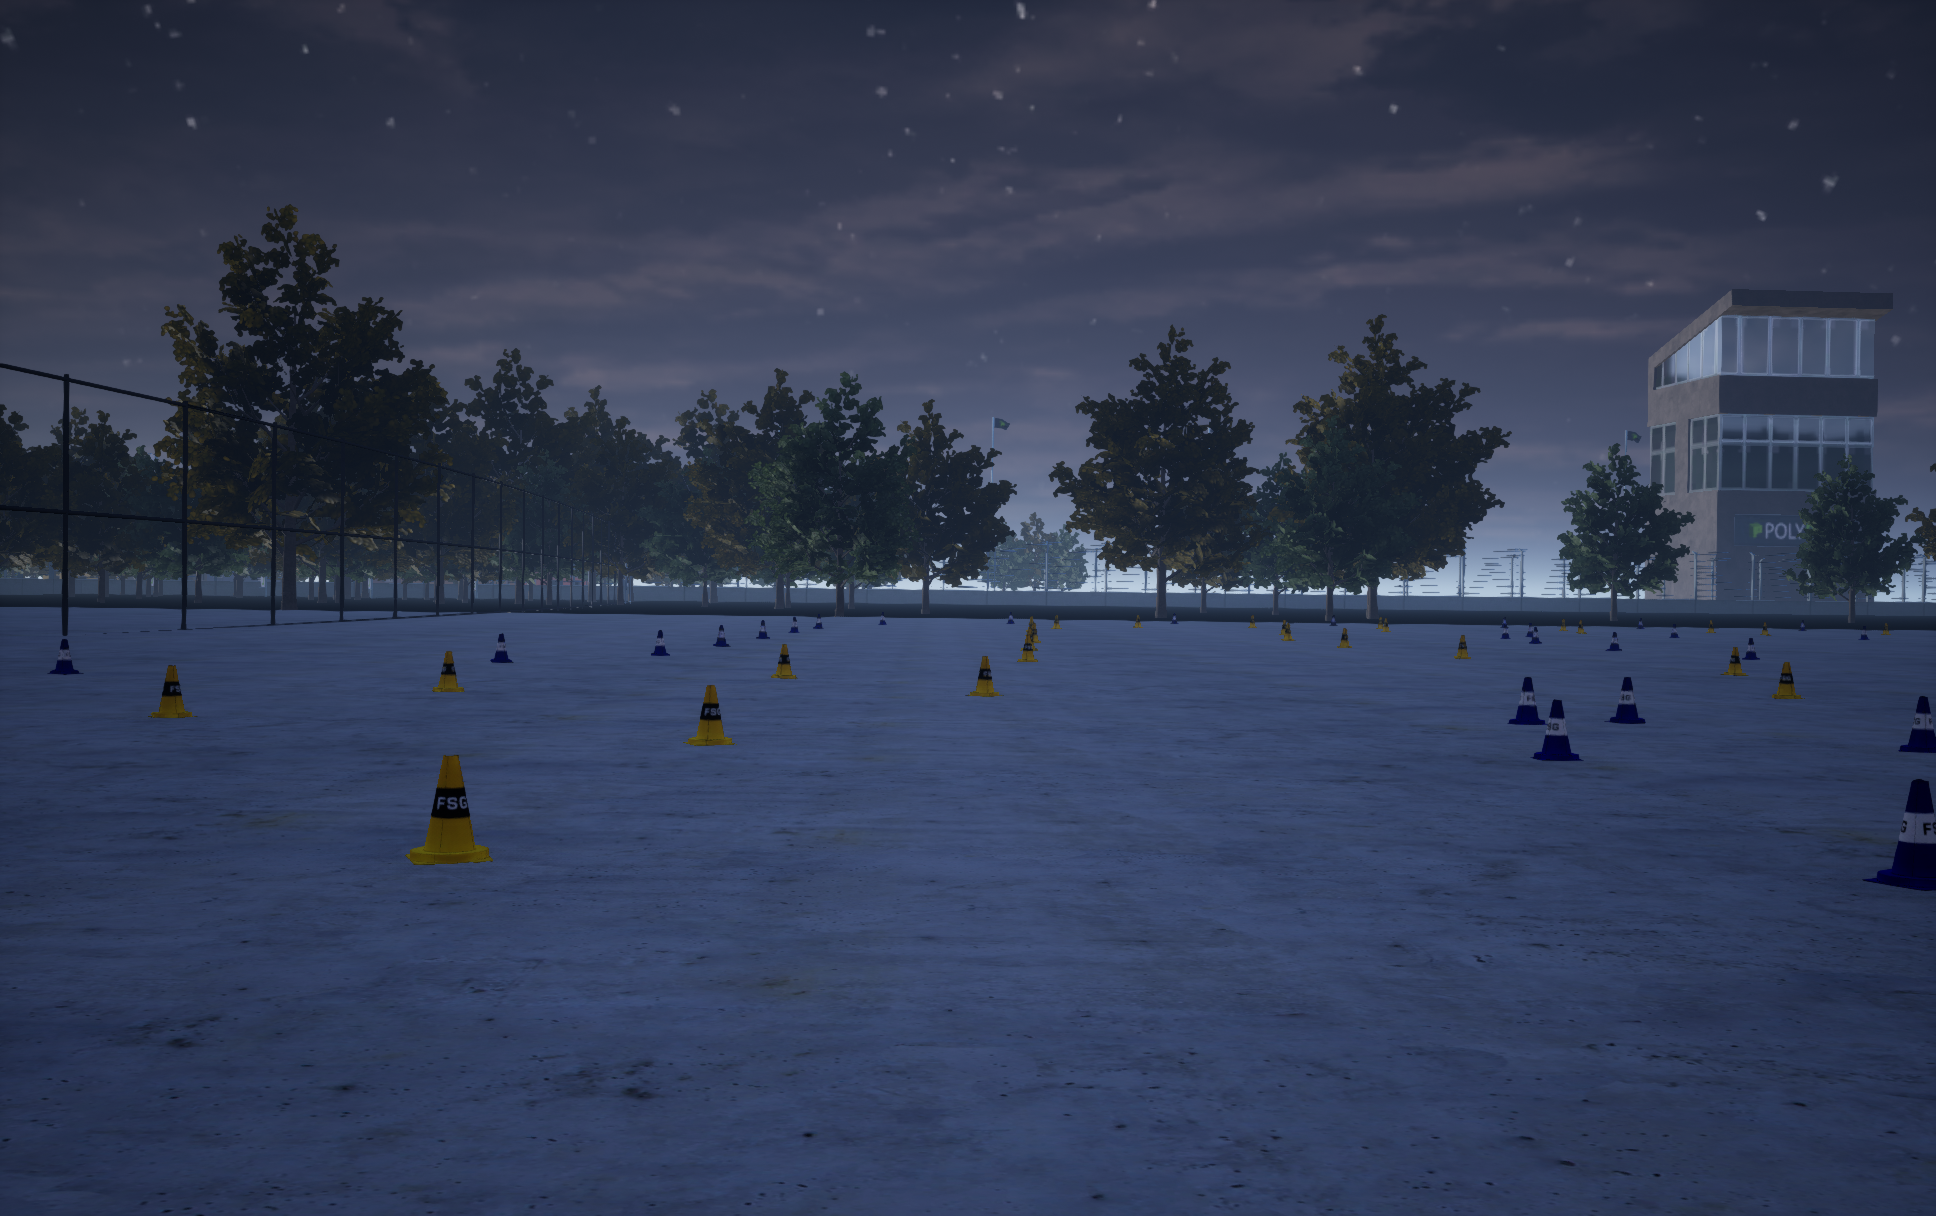blue: (405, 755, 492, 864), (684, 685, 735, 745), (148, 665, 198, 717), (965, 656, 1003, 696), (431, 651, 464, 691), (1772, 663, 1804, 698), (770, 644, 797, 678), (1720, 647, 1748, 675), (1017, 635, 1037, 661), (1020, 628, 1037, 650), (1454, 635, 1470, 658), (1336, 628, 1350, 647)
yellow: (1862, 779, 1935, 890), (1530, 699, 1583, 759), (1898, 696, 1935, 752), (1604, 677, 1645, 723), (1507, 677, 1547, 724), (48, 639, 83, 674), (490, 633, 513, 663), (651, 630, 670, 656), (1743, 637, 1759, 658), (713, 625, 730, 646), (1605, 632, 1621, 650), (756, 621, 769, 637)
